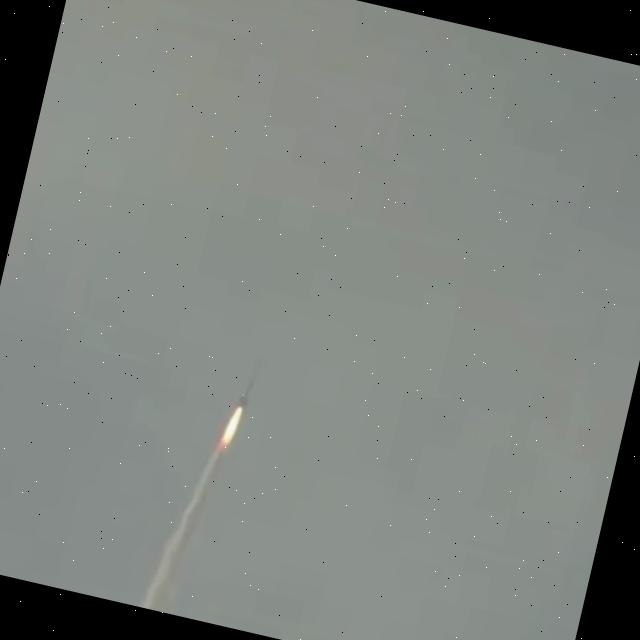smoke_trail_with_rocket: (137, 369, 257, 612)
